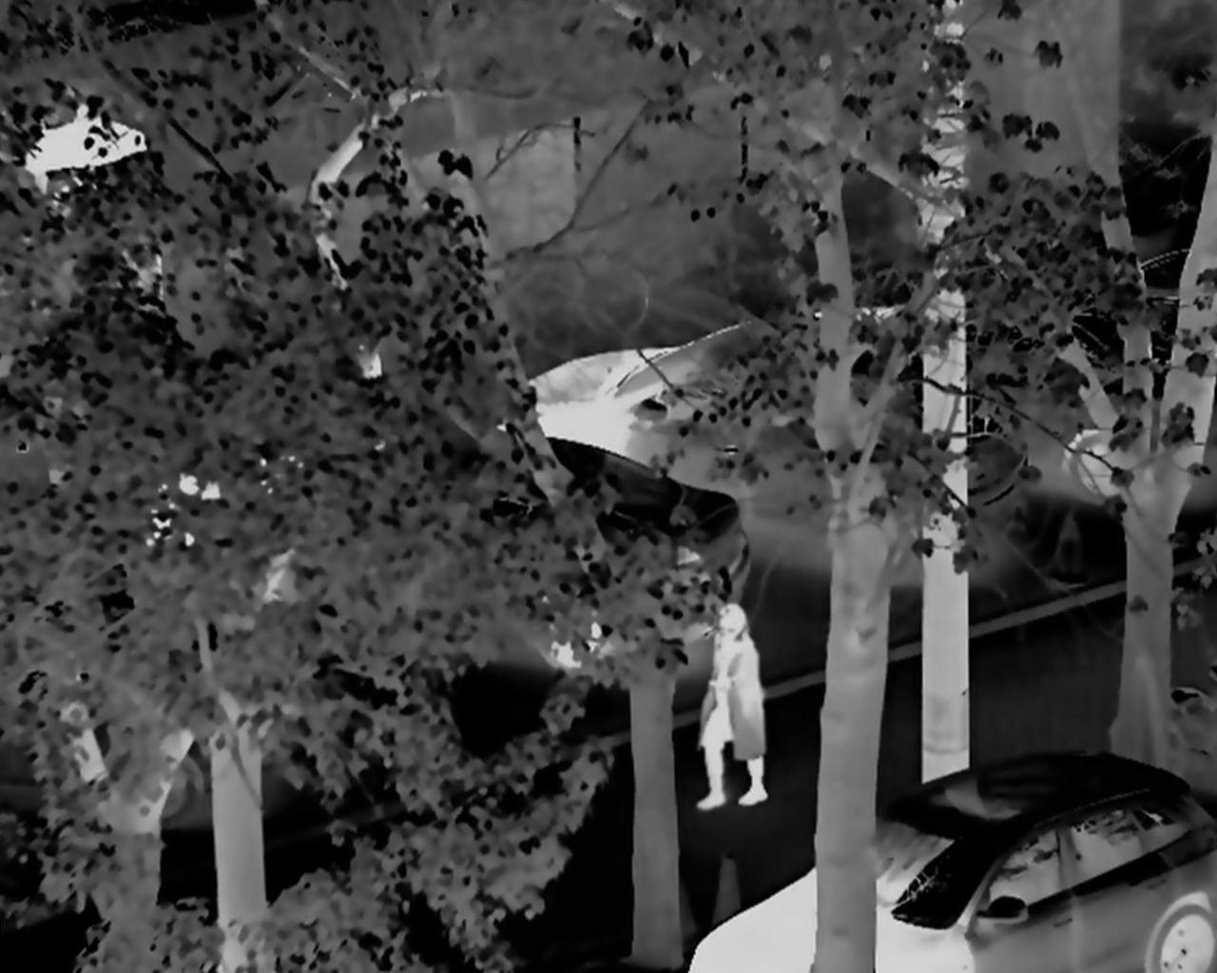person: (692, 597, 770, 819)
